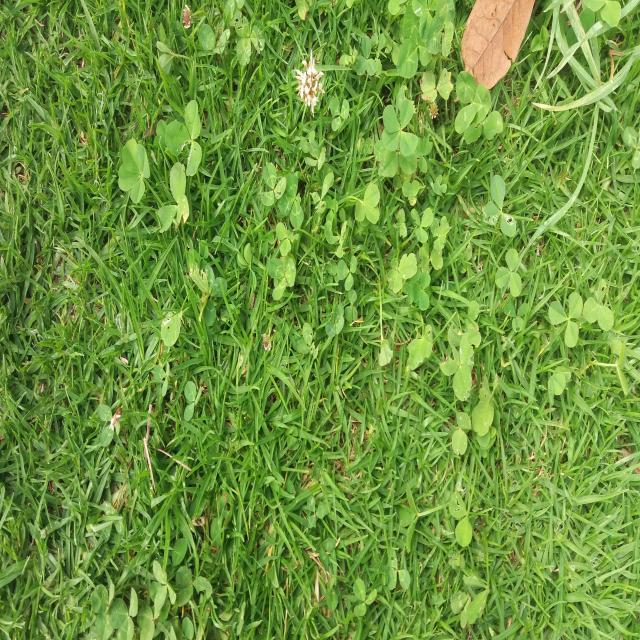Four Leaf Clover: (381, 98, 418, 156), (118, 139, 150, 204)
